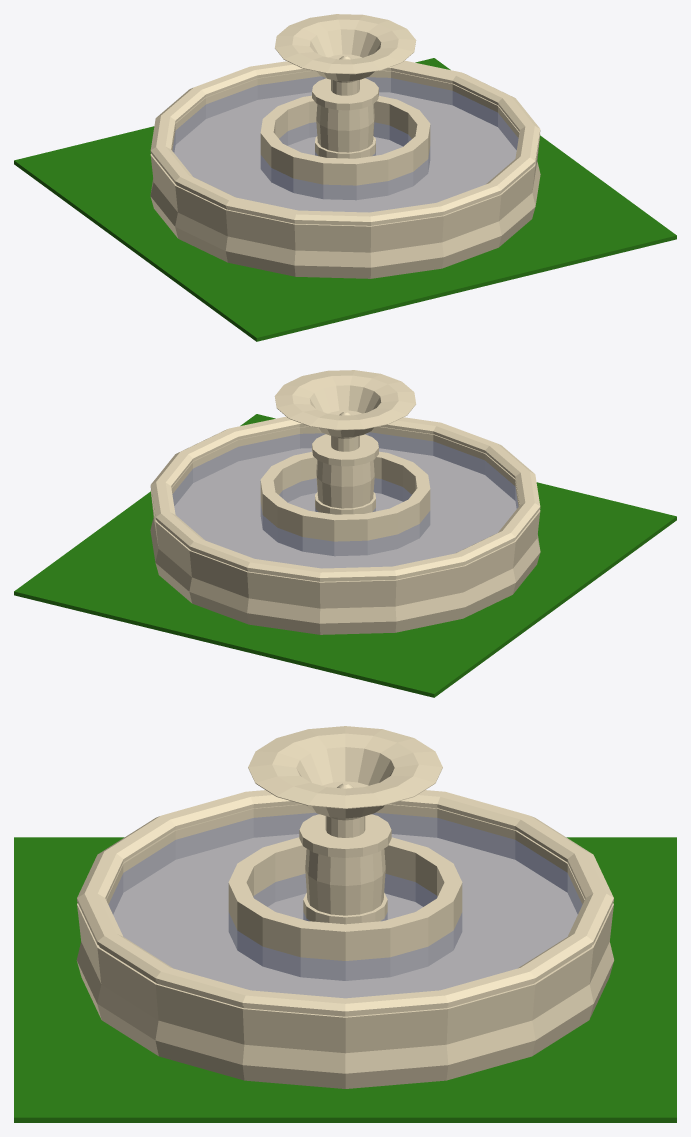
3 renders of one model, top to bottom at view 1: azimuth 30°, elevation 25°; view 2: azimuth 150°, elevation 25°; view 3: azimuth 270°, elevation 25°, orthographic. The views are drawn at different scales.
Visible parts, largest first — view 1: fonana, Plane, acqua; view 2: fonana, Plane, acqua; view 3: fonana, Plane, acqua.
Boxes of the visible parts, x1,y1,x2,y2 form: fonana: [150, 14, 540, 278]; Plane: [14, 58, 676, 341]; acqua: [172, 76, 518, 212]; fonana: [150, 370, 540, 634]; Plane: [14, 414, 676, 697]; acqua: [172, 432, 518, 568]; fonana: [76, 726, 614, 1088]; Plane: [14, 837, 676, 1122]; acqua: [108, 813, 582, 997].
Size of the model in its own units: 494 by 180 by 494.
2 materials, 1 textured.
